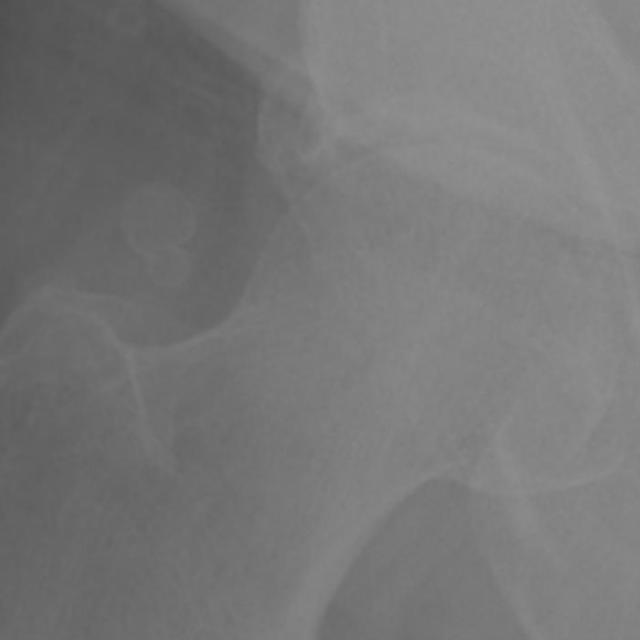Fitted_femural_head: (377, 145, 432, 377)
